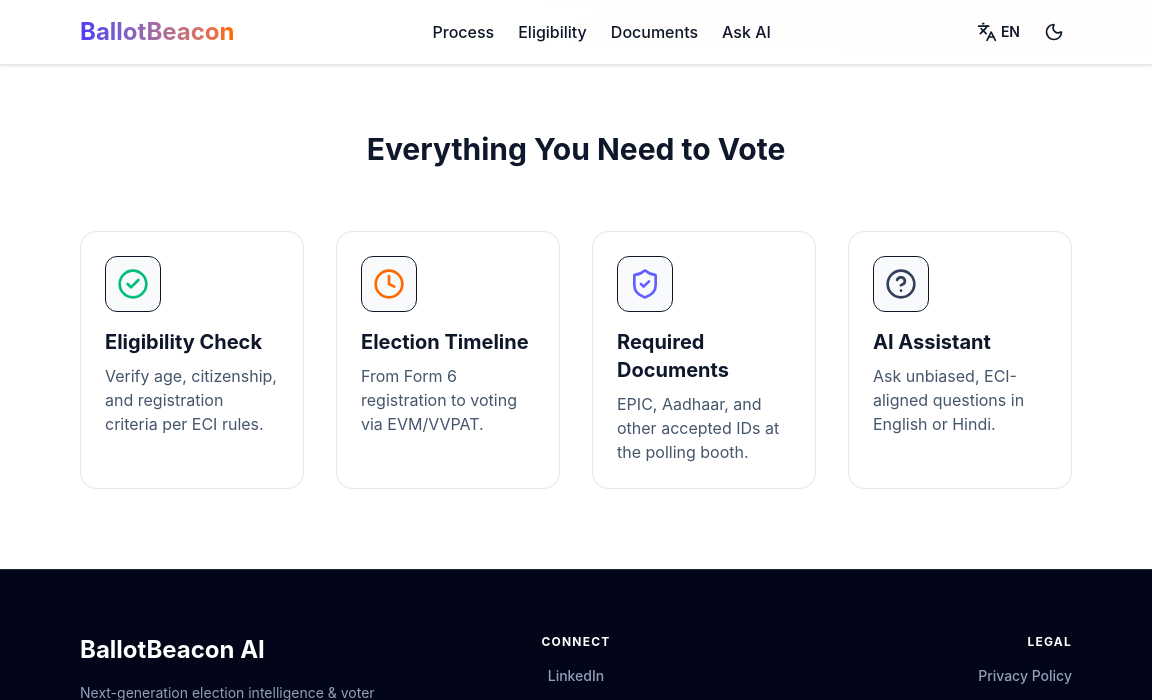
Test: App Integration Flows › navigates from home to process page
This screenshot has width=1152, height=700.
(page scrolled)
// Use findByText to wait for lazy loading
Step 1. Click the link "Election Timeline" → click(448, 360), box [336,231,560,489]
(page scrolled)
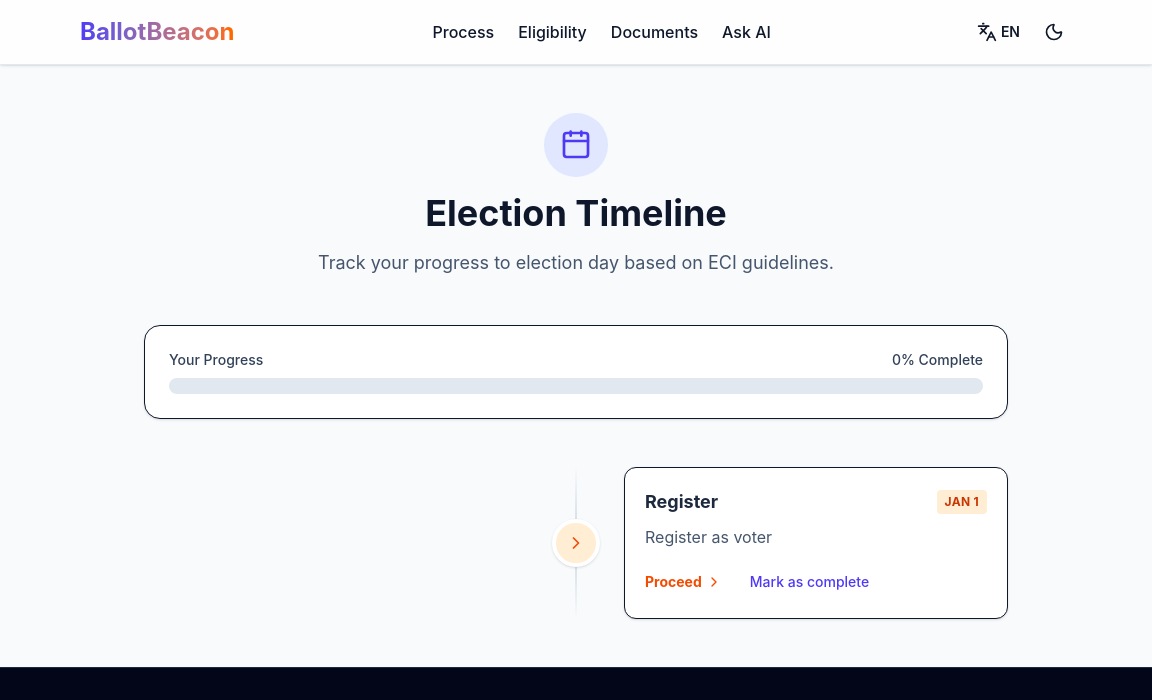
Result: the text "Track your progress to election day based on ECI guidelines." is shown at [318,252,834,273]
